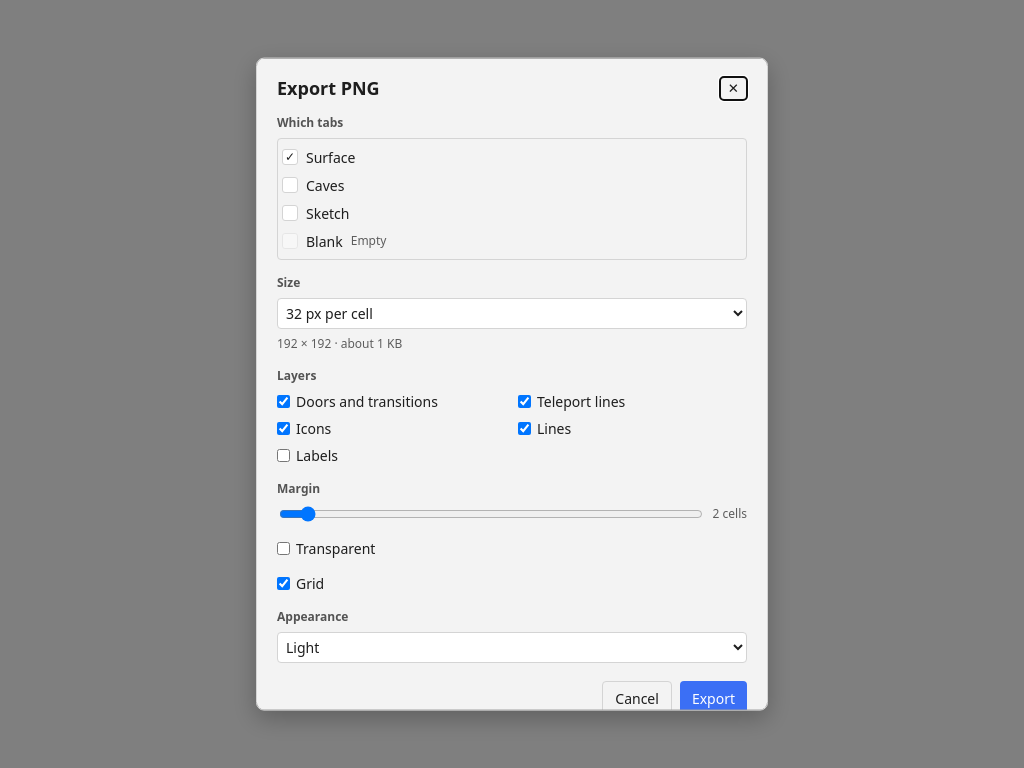
Test: the readout › says nothing is ticked when nothing is
The width and height of the screenshot is (1024, 768).
Click the checkbox labelled "✓": (290, 157) [282,149,298,165]
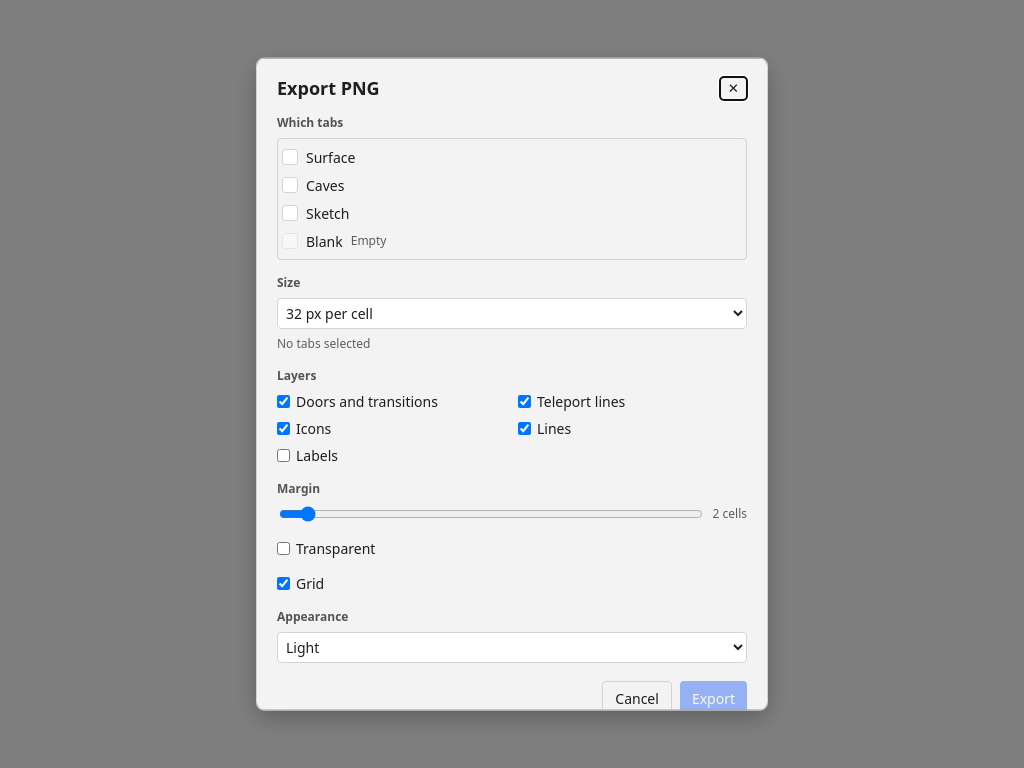
Expected: the text "No tabs selected" is shown, [277,335,370,352]
Expected: the button "Export" is disabled, [680,681,747,710]
